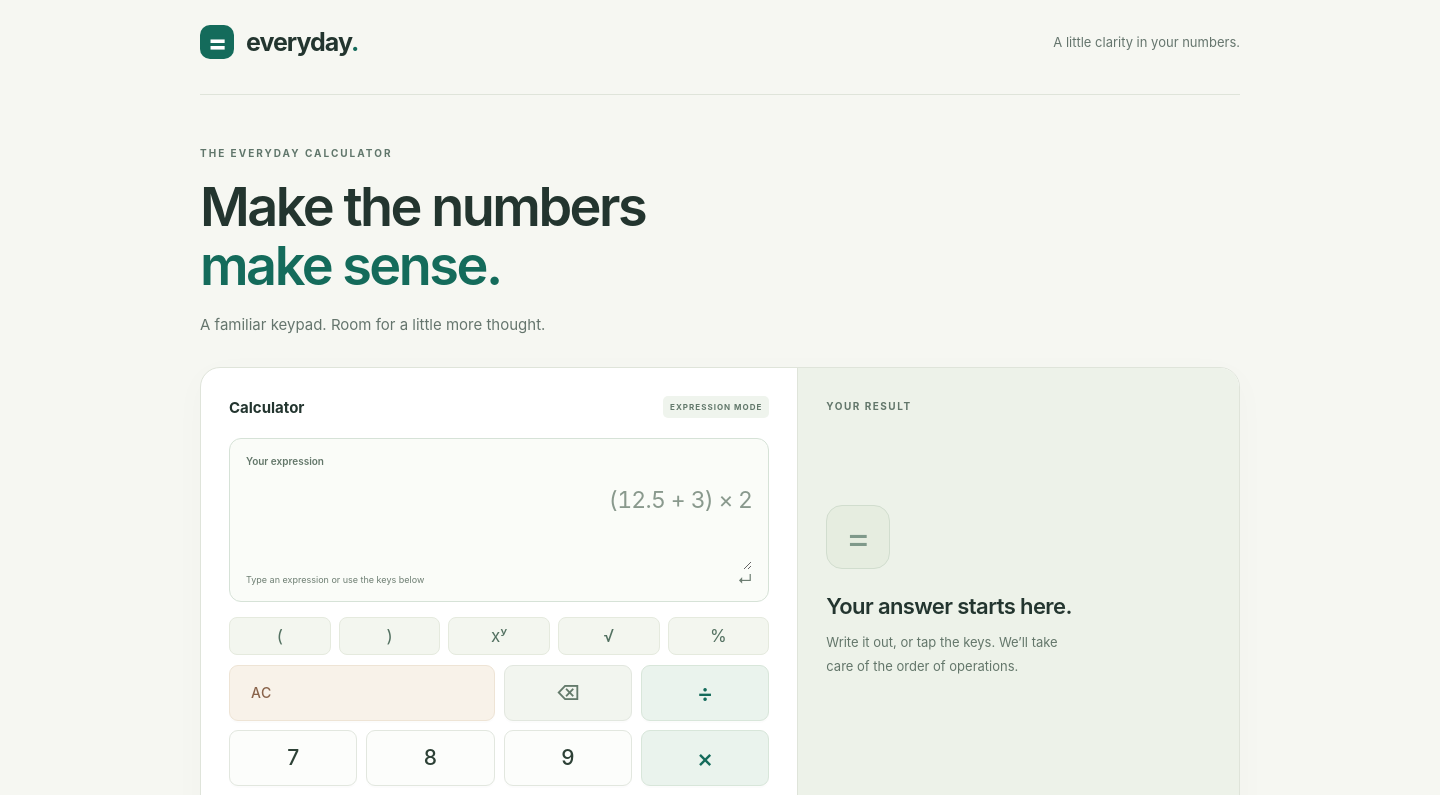
it: expression calculator › marks rounded displays, copies their shown value, and reuses full precision
Type "0.1+0.2" into the text box labelled "Your expression" at (499, 519), box 246,467 -> 752,570
(page scrolled)
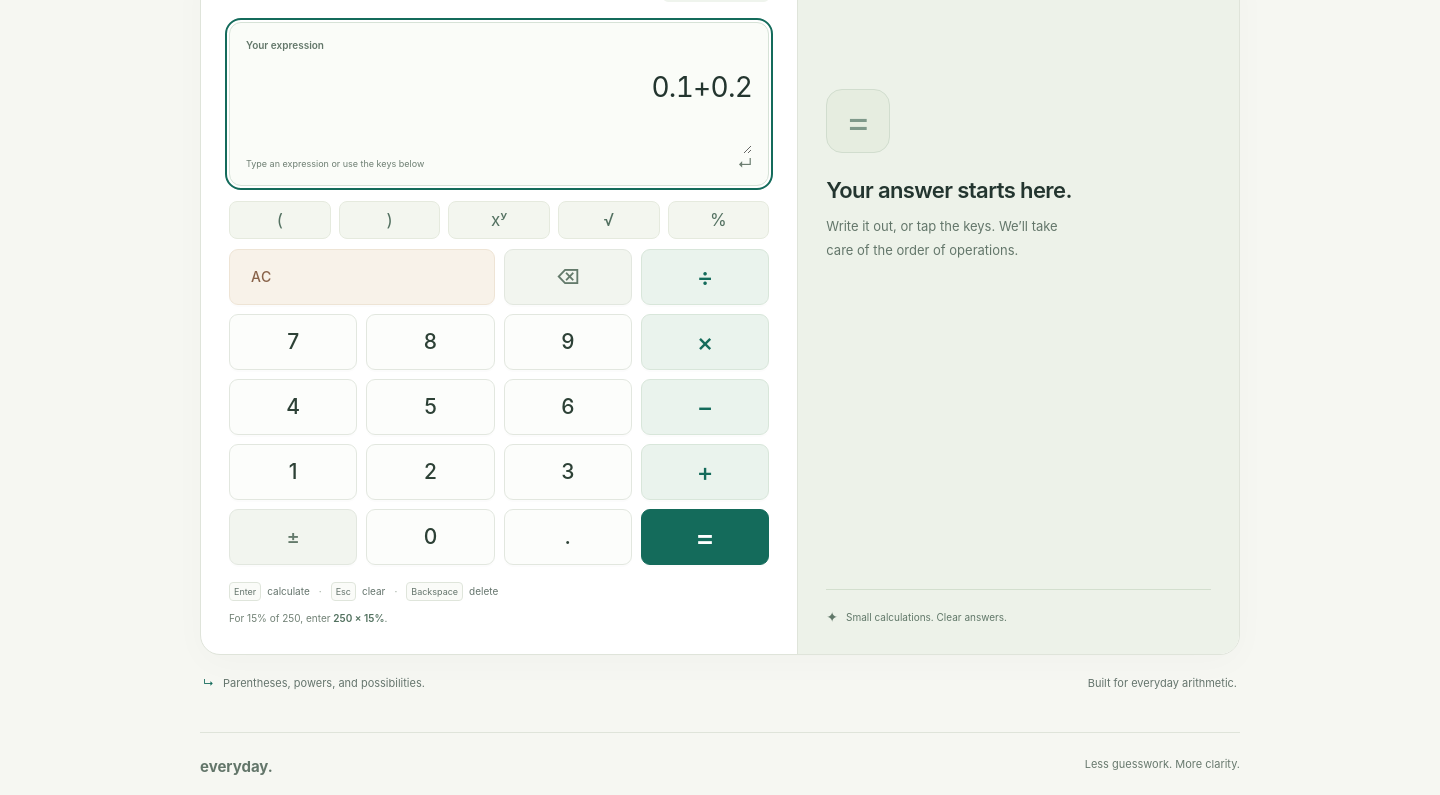
Click the button named "Calculate" at (705, 537), box 641,509 -> 769,565
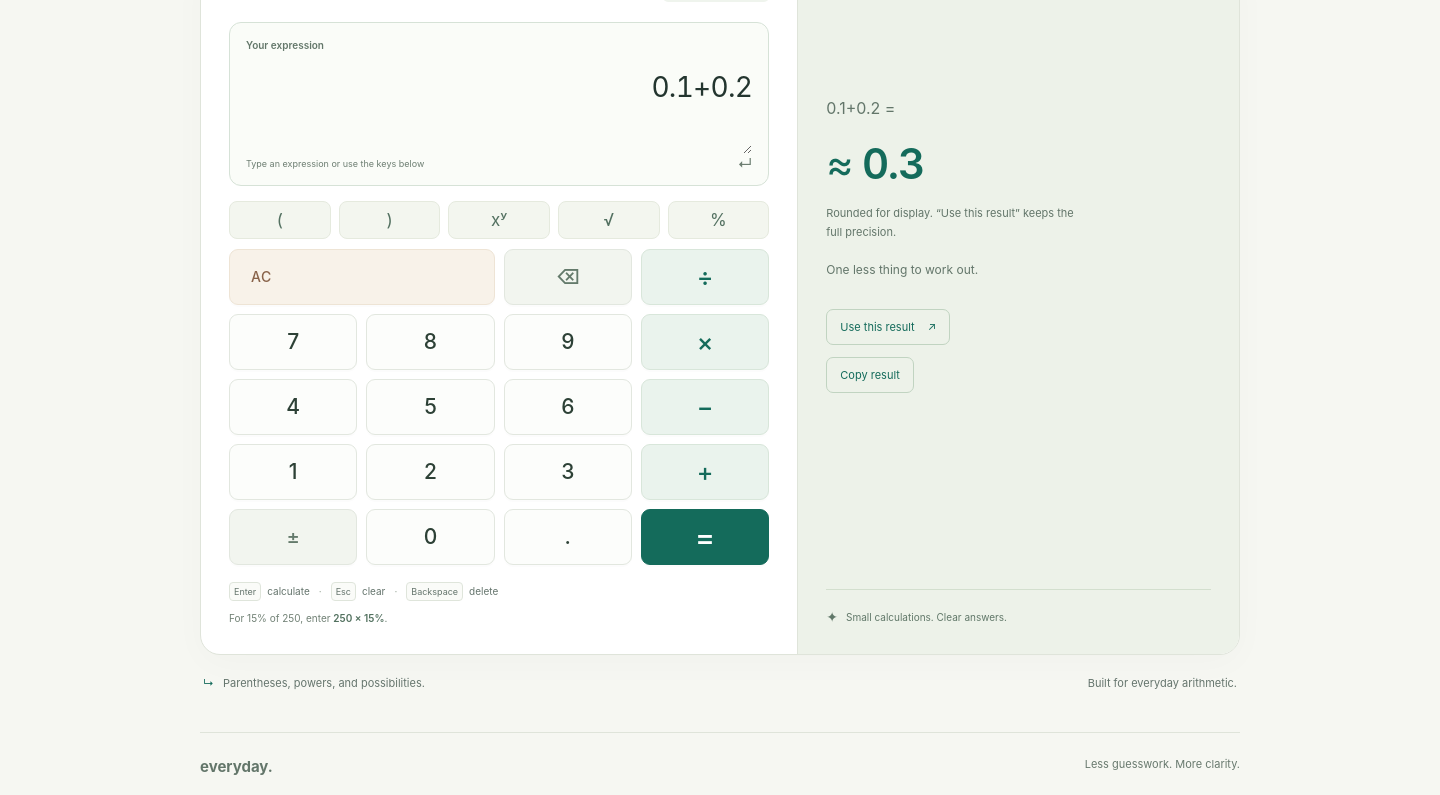
Expected: the element named "Result" reads "≈ 0.3", 826,137 -> 924,192
Expected: the text "Rounded for display" is shown, 826,206 -> 1074,240
Click the button "Copy result" at (870, 375), box 826,357 -> 914,393
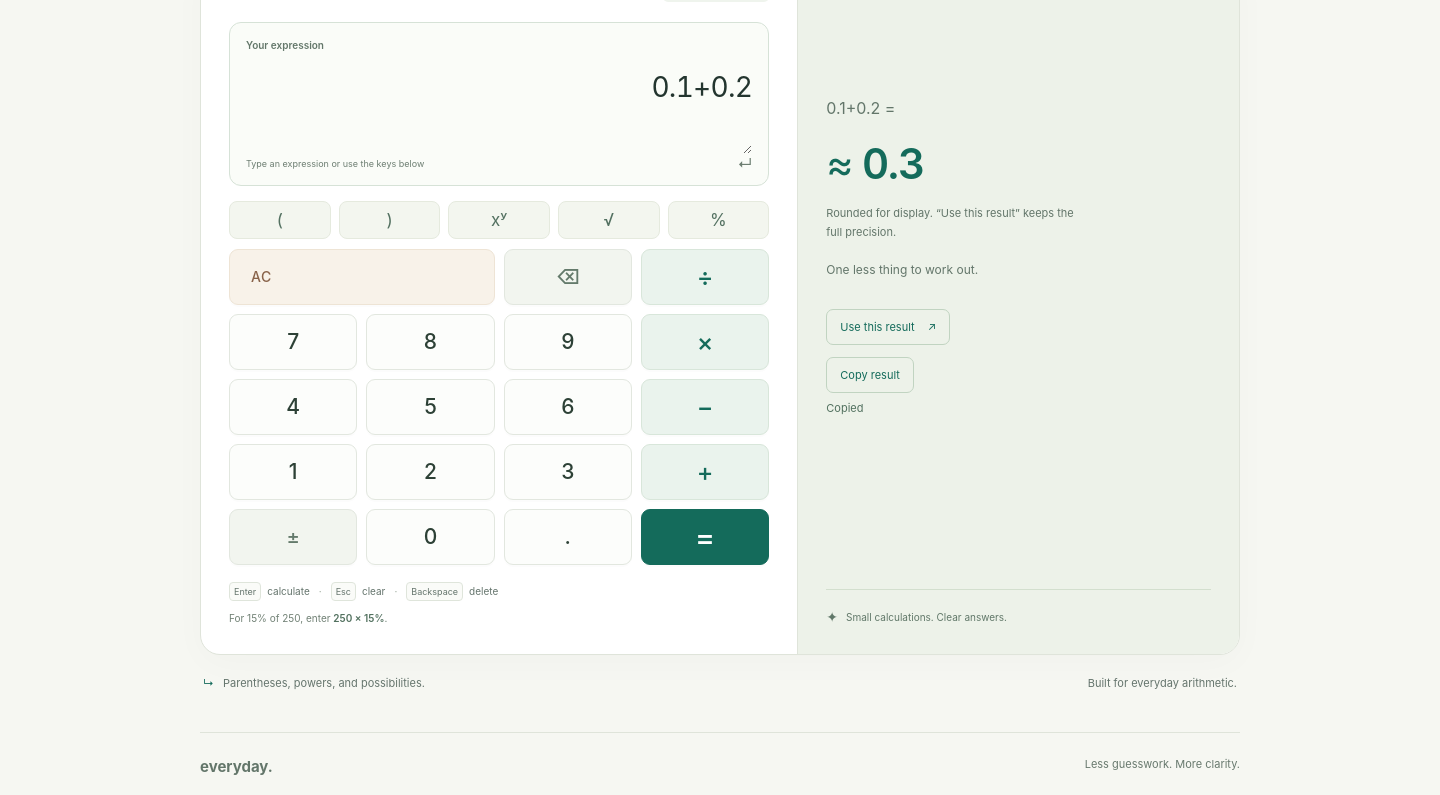
Click the button "Use this result ↗" at (888, 327), box 826,309 -> 950,345
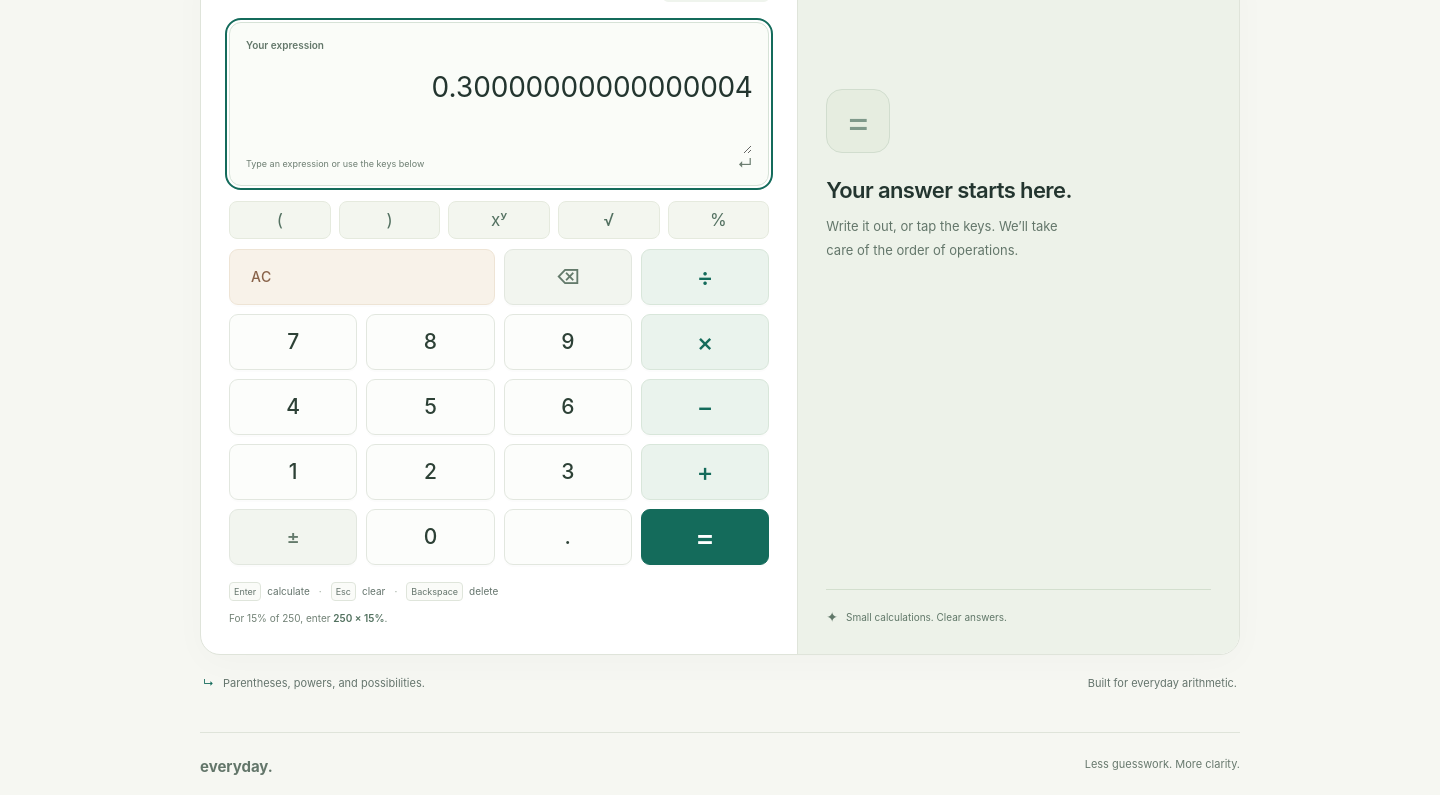
Expected: the text box labelled "Your expression" holds "0.30000000000000004", 246,51 -> 752,154
